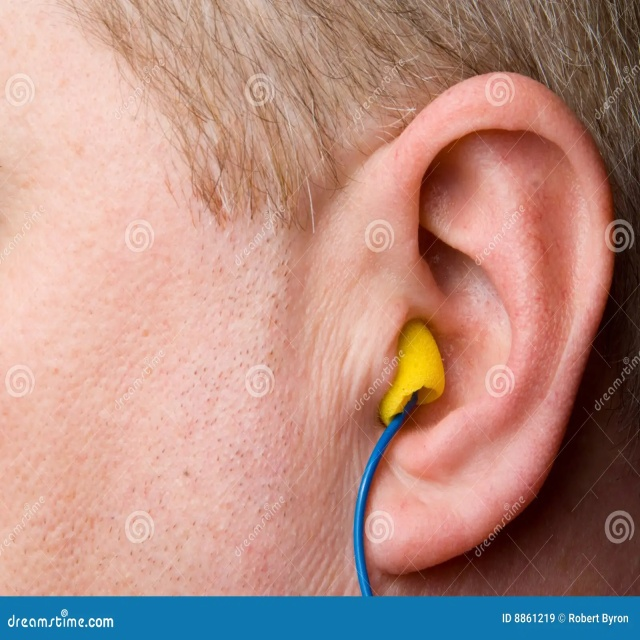Hearing_Protection: (383, 321, 450, 401)
